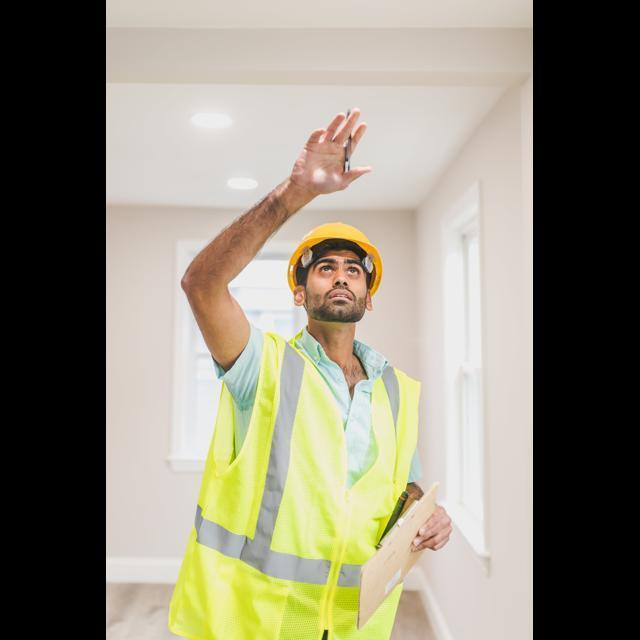helmet: (277, 214, 401, 314)
safety_vest: (188, 321, 409, 640)
